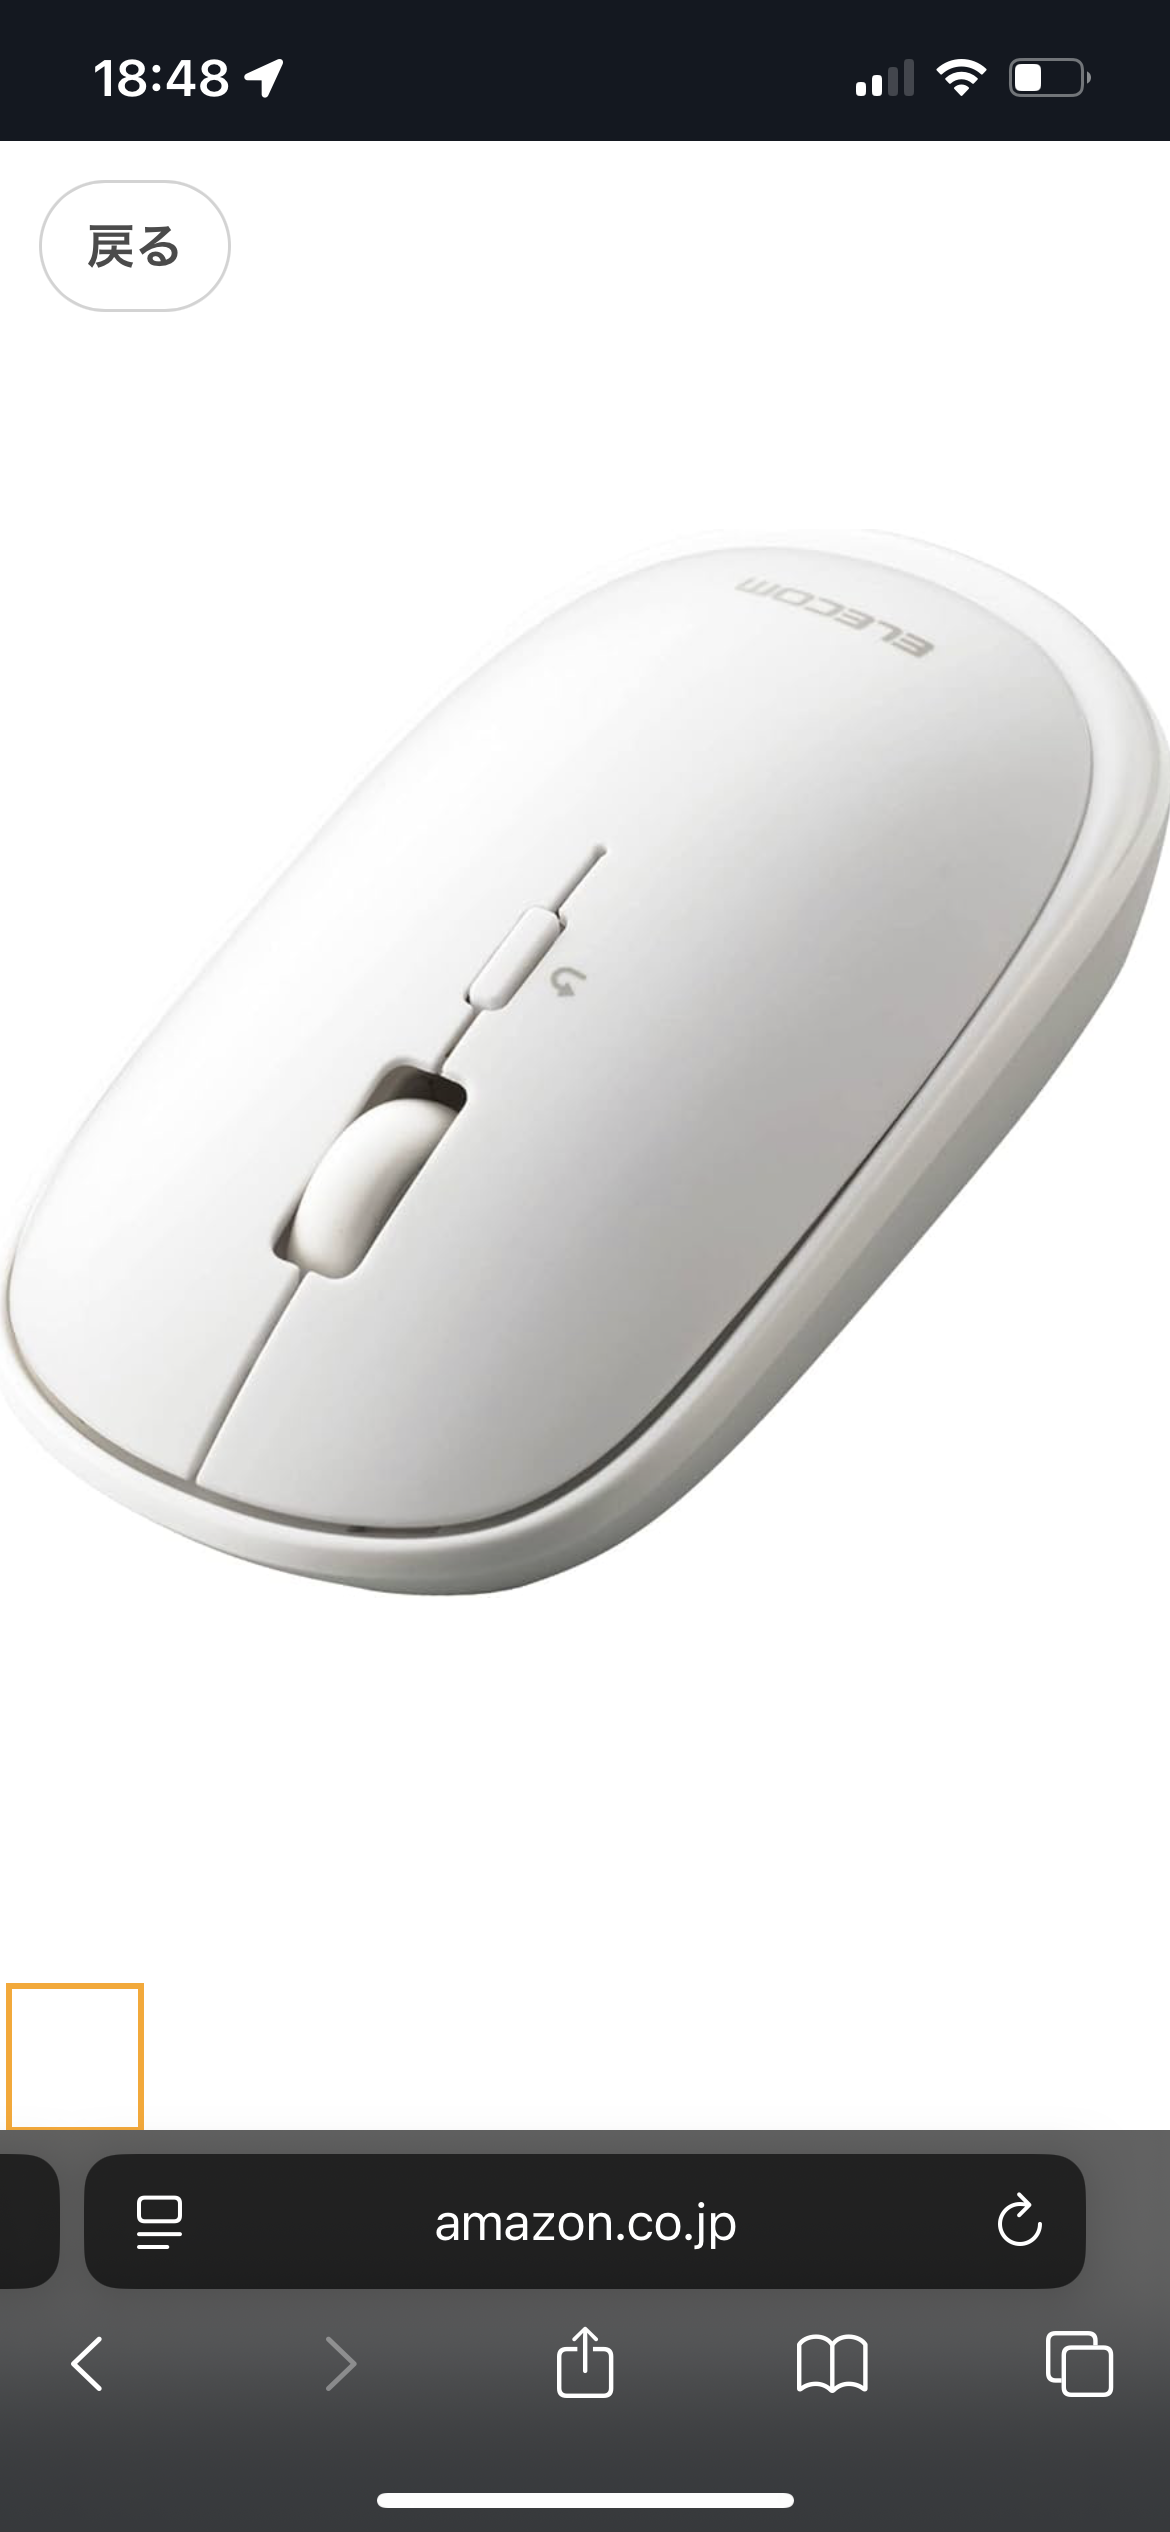mouse: (491, 541, 679, 1654)
